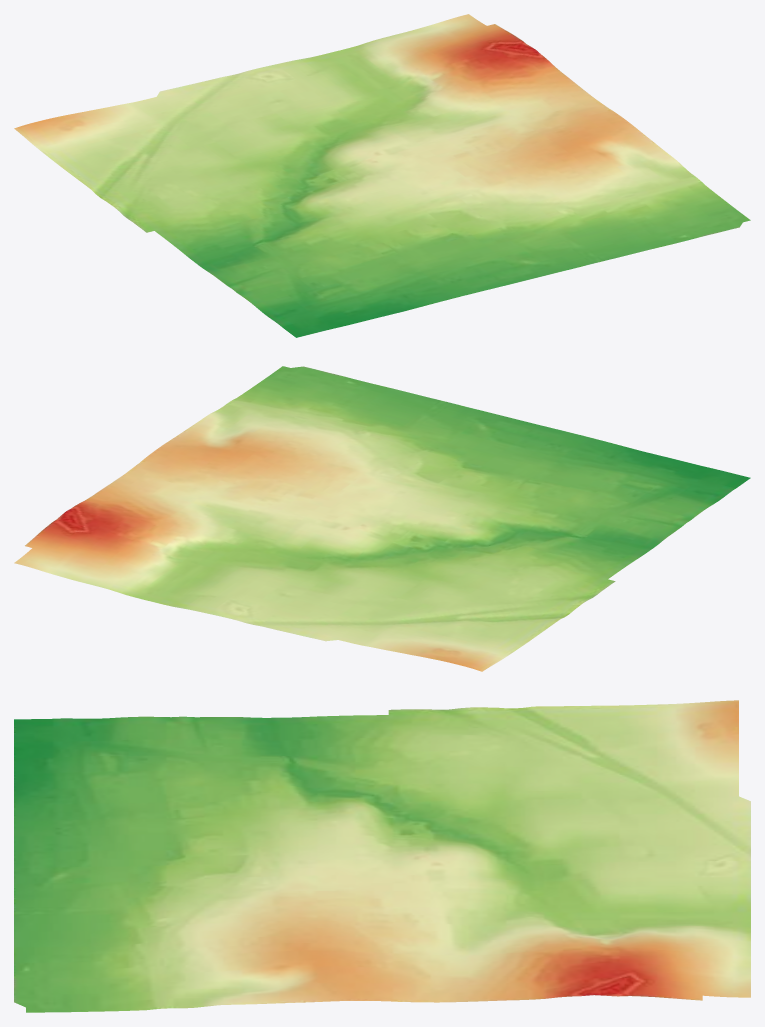
Rendered from Ukształtowanie terenu 1.gltf.
3 views of the same model, one above another, from view 1: azimuth 30°, elevation 25°; view 2: azimuth 150°, elevation 25°; view 3: azimuth 270°, elevation 25° (orthographic). The views are drawn at different scales.
Visible parts, largest first — view 1: 67253_783194_M-34-64-D-b-4-4; view 2: 67253_783194_M-34-64-D-b-4-4; view 3: 67253_783194_M-34-64-D-b-4-4.
Boxes of the visible parts, left/top/right/bottom form: 67253_783194_M-34-64-D-b-4-4: left=14, top=14, right=750, bottom=337; 67253_783194_M-34-64-D-b-4-4: left=14, top=366, right=750, bottom=671; 67253_783194_M-34-64-D-b-4-4: left=14, top=700, right=750, bottom=1012.
Size of the model in its own units: 2221 by 69.88 by 2296.
Materials: 1 (1 with a texture image).
